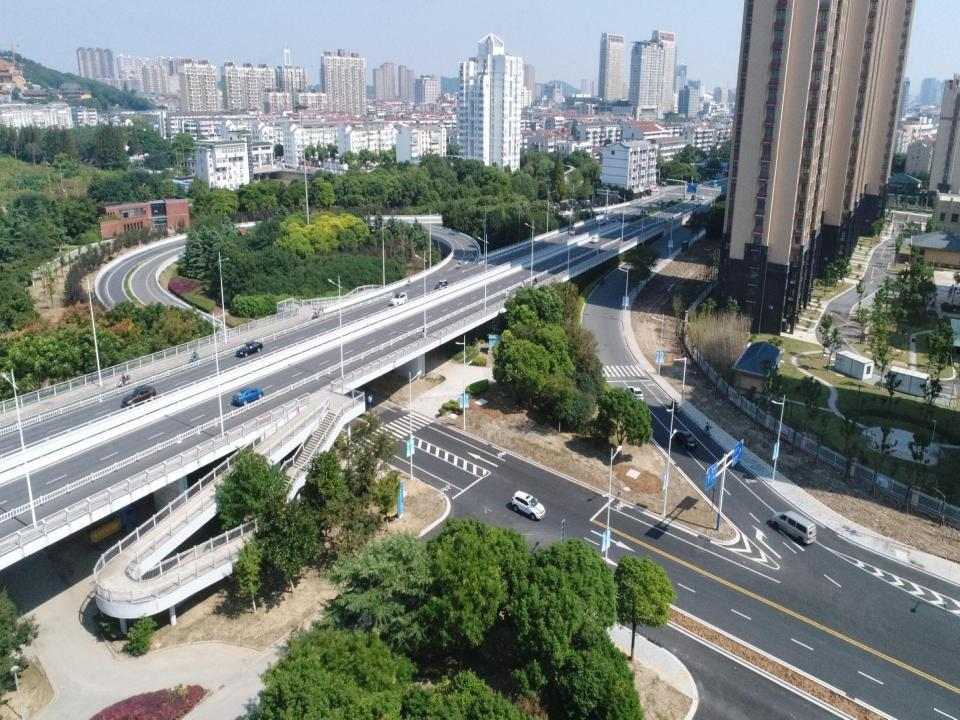car: (512, 487, 546, 522), (120, 385, 156, 406), (233, 385, 264, 404), (236, 340, 262, 358), (673, 430, 696, 450), (628, 383, 644, 407), (387, 292, 408, 306), (434, 280, 448, 290), (569, 227, 577, 236), (591, 235, 599, 243), (598, 217, 606, 224), (613, 216, 619, 224), (651, 188, 659, 192), (700, 194, 705, 200), (691, 194, 696, 199), (658, 200, 662, 205)
van: (773, 509, 817, 543)
